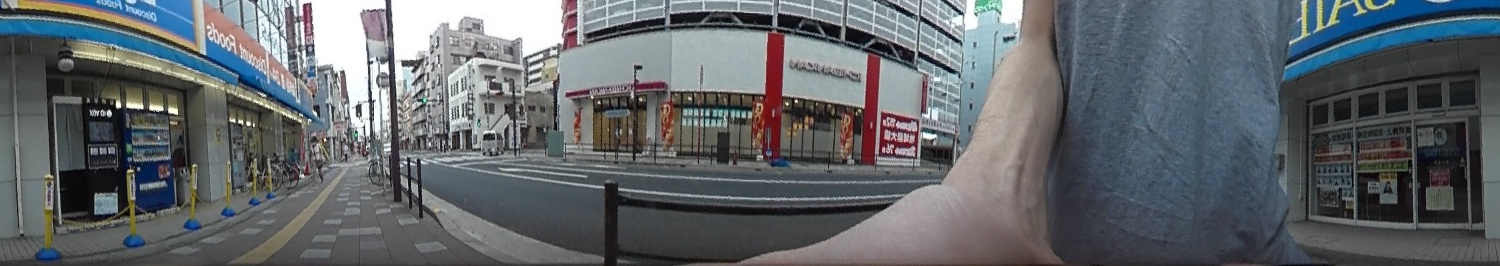person: (307, 134, 327, 180)
